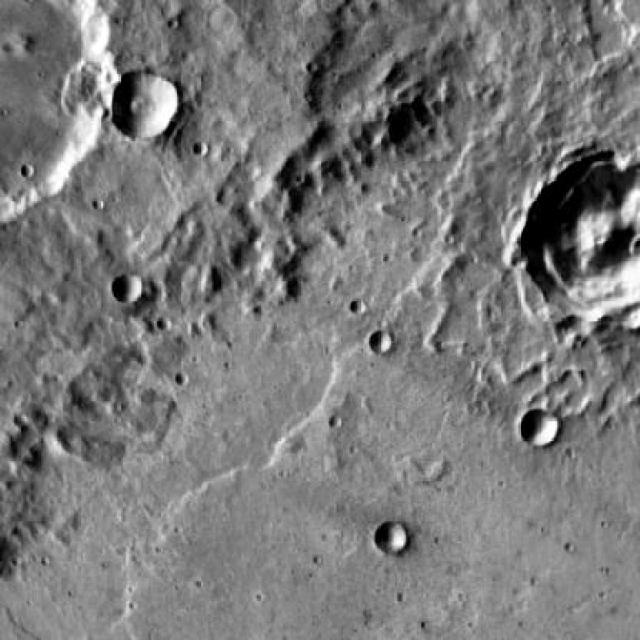crater: (0, 3, 128, 215), (529, 158, 640, 324), (110, 74, 178, 141), (520, 409, 558, 448), (376, 520, 406, 552), (113, 274, 142, 303), (207, 7, 236, 36), (368, 330, 392, 353)
